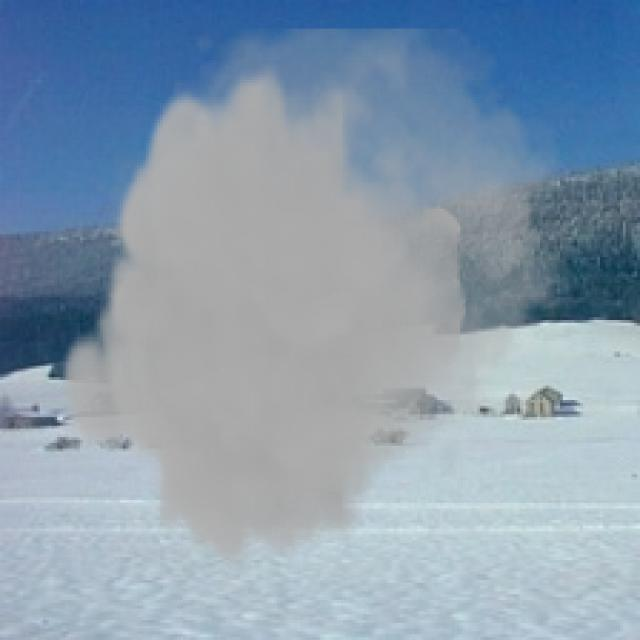Smoke: (57, 29, 577, 568)
